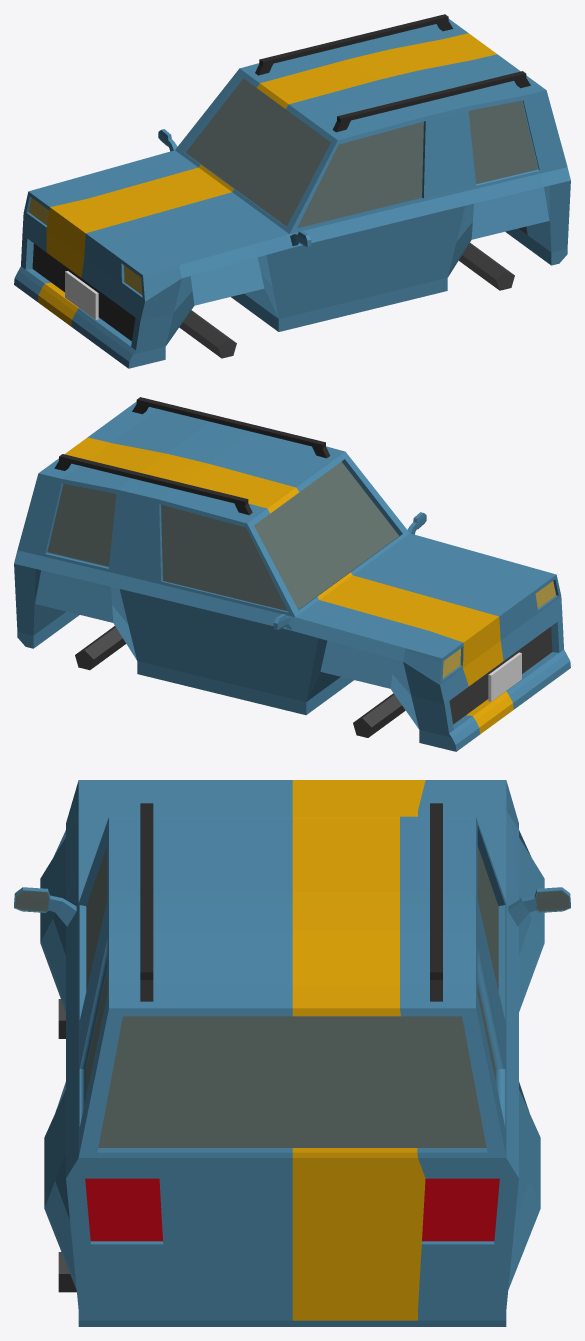
3 views of the same model, one above another, from view 1: azimuth 30°, elevation 25°; view 2: azimuth 150°, elevation 25°; view 3: azimuth 270°, elevation 25° (orthographic). The views are drawn at different scales.
Parts seen in each view (by area): view 1: pasted__polySurface5; view 2: pasted__polySurface5; view 3: pasted__polySurface5.
Part boxes in pixels (box(x1,y1,x2,y2)): pasted__polySurface5: box(14, 14, 570, 368); pasted__polySurface5: box(14, 397, 570, 751); pasted__polySurface5: box(14, 780, 570, 1326).
Bounding box in the file's own units: 28.62 × 11.8 × 16.86.
